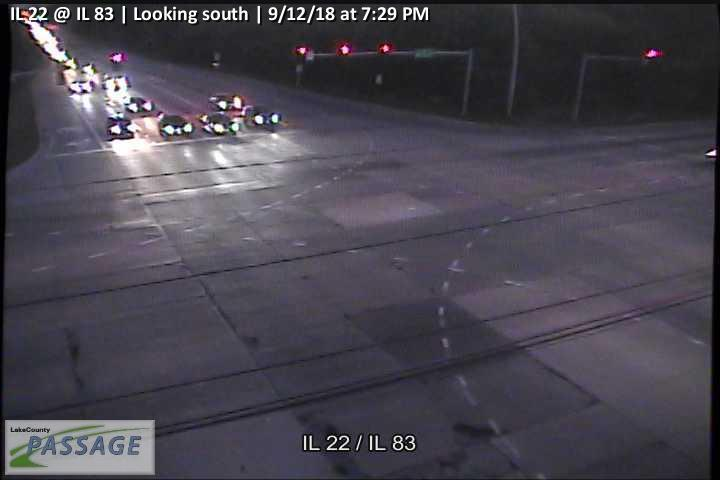SUV: (158, 112, 192, 137), (105, 115, 135, 139)
Sedan: (241, 104, 281, 129), (199, 112, 239, 134), (209, 92, 244, 113), (123, 96, 151, 112)
